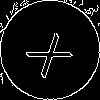X: (25, 25, 82, 79)
